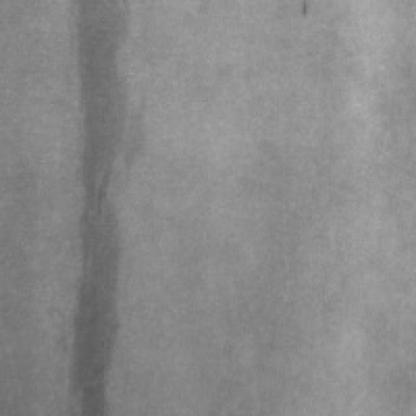inclusion: (62, 0, 134, 412)
